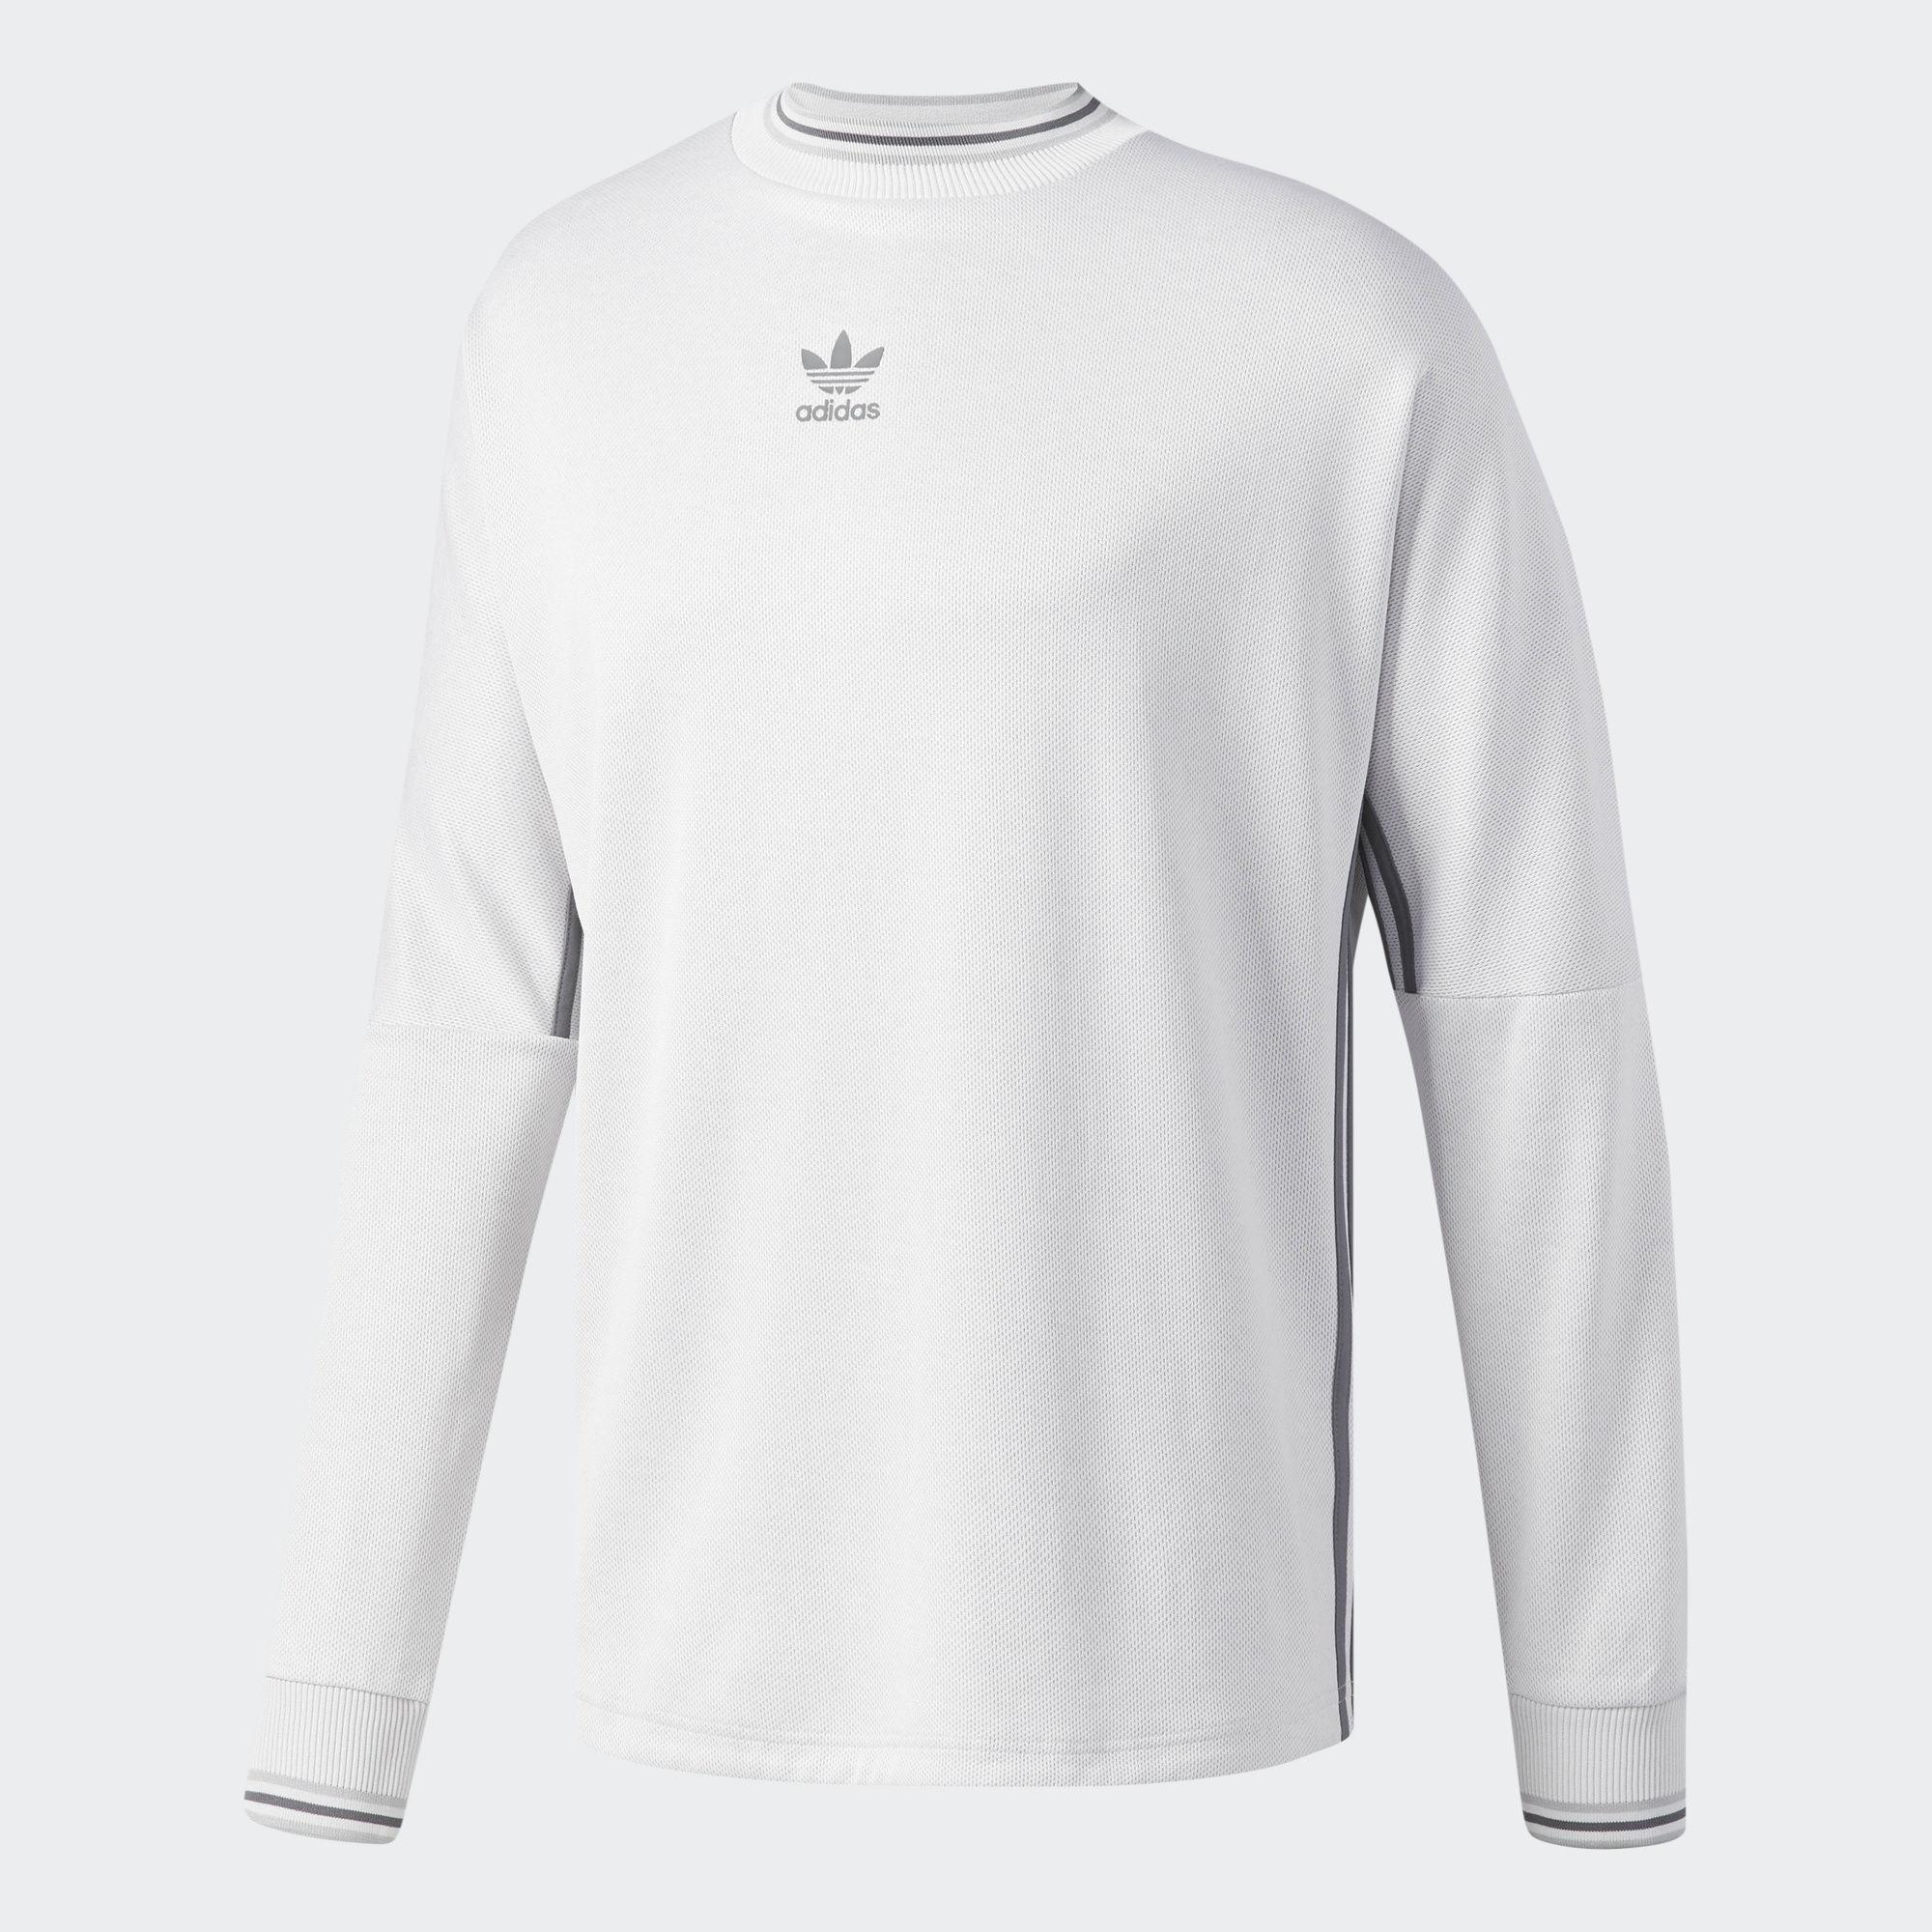teeshirt: (205, 55, 1775, 1928)
